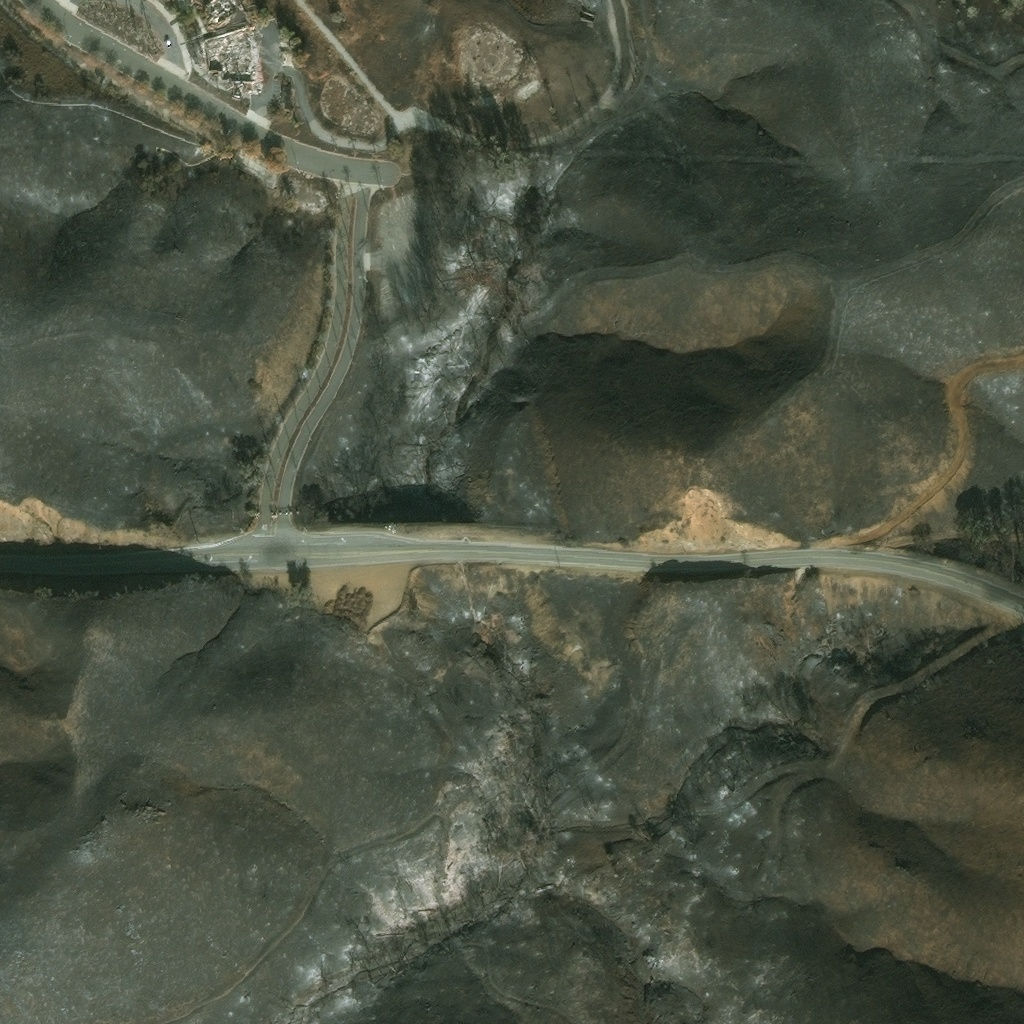3 destroyed: (185, 0, 255, 84), (279, 86, 292, 112)
